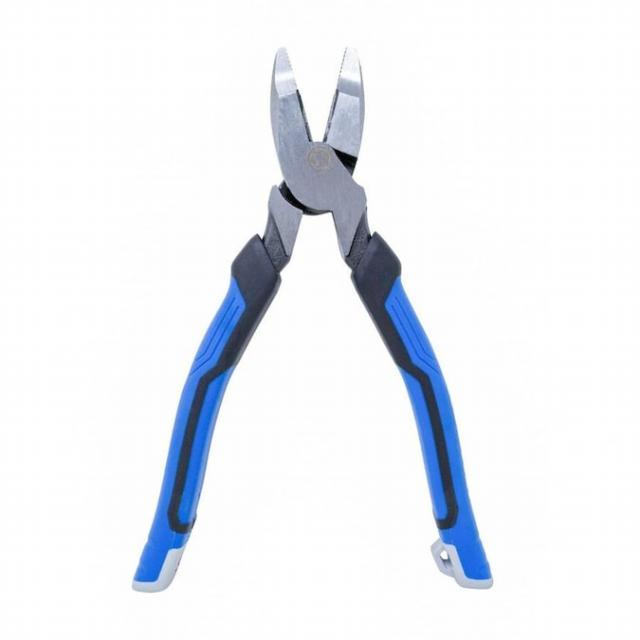pliers: (125, 39, 498, 599)
